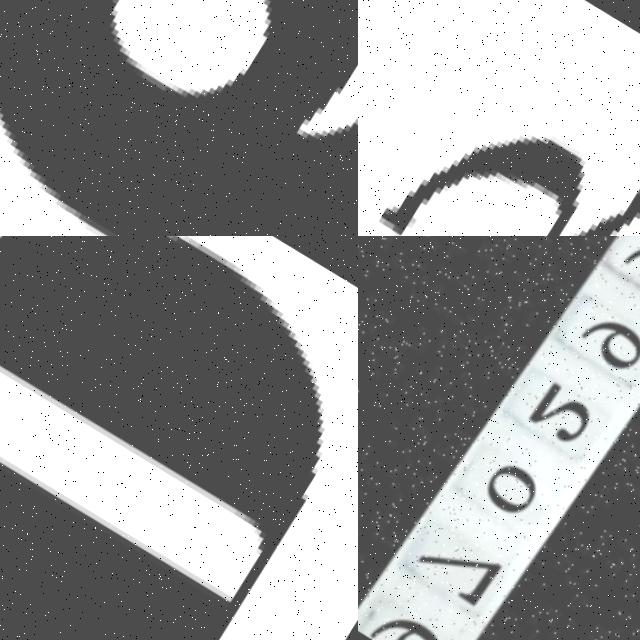0: (456, 437, 578, 545)
2: (502, 358, 630, 472)
6: (0, 0, 358, 236)
7: (399, 508, 531, 626)
9: (559, 291, 640, 391), (360, 586, 480, 640), (599, 236, 640, 320)
D: (0, 236, 358, 640)
